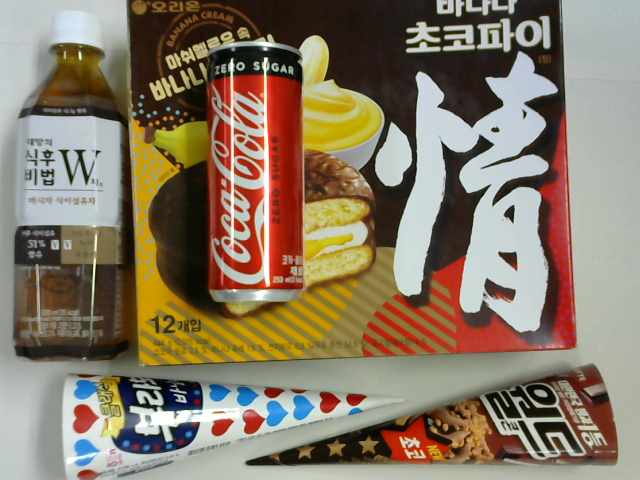Bravo_Cone_(Banila)_CVS: (56, 369, 405, 480)
Choco_Pie_Banana: (125, 2, 580, 358)
Coca_Cola_Zero_Can_250ml: (204, 41, 313, 306)
Post-meal_recipe_W_tea_500ml: (6, 10, 134, 360)
World_Cone_Choco: (245, 358, 621, 480)
